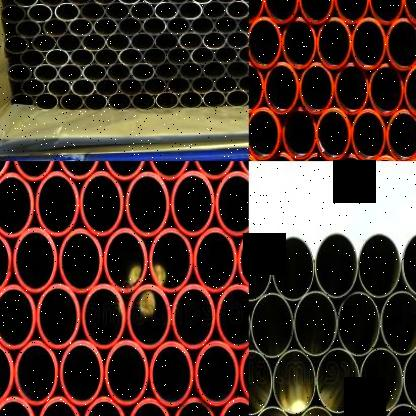pipe: (104, 340, 149, 406), (59, 340, 104, 406), (13, 227, 58, 292), (126, 171, 170, 237), (35, 171, 79, 237), (193, 227, 237, 293), (103, 228, 147, 294), (36, 283, 80, 349), (195, 340, 239, 406), (316, 348, 360, 414), (272, 349, 316, 415), (80, 171, 124, 236), (127, 284, 171, 349), (82, 284, 126, 349), (172, 284, 216, 349), (250, 293, 294, 358), (58, 229, 103, 292), (14, 341, 58, 405), (171, 171, 214, 236), (150, 341, 193, 406), (315, 233, 358, 298), (294, 291, 337, 356), (149, 229, 193, 292), (360, 348, 402, 413), (272, 236, 314, 300), (338, 292, 380, 356), (358, 234, 401, 296), (0, 284, 36, 348), (0, 171, 34, 238), (380, 292, 416, 354), (216, 283, 249, 349), (215, 172, 249, 235), (316, 108, 351, 161), (282, 18, 317, 70), (351, 18, 386, 70), (299, 62, 334, 114), (369, 64, 404, 116), (282, 108, 317, 160), (317, 18, 351, 70), (265, 62, 299, 114), (335, 63, 369, 115), (351, 109, 385, 161), (249, 16, 281, 68), (385, 18, 416, 70), (249, 108, 280, 160), (386, 109, 416, 161), (249, 350, 272, 415), (249, 236, 271, 300), (173, 395, 217, 416), (82, 395, 126, 416), (12, 161, 56, 182), (37, 395, 80, 416), (402, 232, 416, 296), (402, 347, 416, 410), (103, 161, 147, 181), (148, 161, 191, 181), (0, 339, 13, 405), (298, 0, 333, 24), (127, 397, 171, 416), (192, 161, 236, 180), (57, 161, 101, 180), (333, 0, 367, 24), (369, 0, 403, 24), (0, 229, 12, 295), (263, 0, 297, 23), (249, 62, 264, 114), (0, 396, 35, 416), (238, 228, 249, 291), (238, 339, 248, 406), (404, 64, 416, 116), (217, 396, 248, 416), (129, 1, 155, 21), (80, 1, 106, 21), (105, 1, 131, 21), (56, 33, 82, 53), (1, 4, 27, 24), (54, 2, 81, 21), (15, 19, 42, 38), (42, 18, 69, 37), (142, 16, 167, 36), (68, 17, 93, 37), (94, 47, 119, 67), (106, 32, 131, 52), (214, 15, 239, 35), (154, 61, 179, 81), (81, 33, 107, 52), (166, 16, 192, 35), (69, 48, 95, 67), (4, 35, 30, 54), (117, 17, 143, 36), (190, 16, 216, 35), (82, 63, 108, 82), (106, 63, 132, 82), (31, 34, 57, 53), (19, 49, 46, 67), (202, 0, 226, 20), (119, 47, 143, 67), (178, 0, 202, 20), (167, 46, 191, 66), (154, 1, 179, 20), (28, 4, 53, 23), (93, 17, 118, 36), (130, 32, 155, 51), (154, 32, 179, 51), (178, 61, 203, 80), (59, 93, 85, 111), (7, 64, 33, 82), (46, 78, 72, 96), (33, 64, 59, 82), (84, 92, 108, 111), (119, 77, 143, 96), (191, 46, 215, 65), (143, 47, 167, 66), (167, 76, 191, 95), (225, 60, 249, 79), (45, 49, 70, 67), (58, 64, 83, 82), (143, 77, 168, 95), (190, 76, 215, 94), (214, 46, 239, 64), (202, 61, 227, 79), (178, 32, 203, 50), (131, 63, 156, 81), (95, 78, 120, 96), (338, 406, 382, 416), (294, 406, 338, 416), (250, 406, 294, 416), (203, 31, 226, 50), (21, 78, 45, 96), (132, 92, 156, 110), (202, 90, 226, 108), (214, 75, 238, 93), (71, 78, 95, 96), (155, 91, 179, 109), (225, 31, 249, 49), (178, 91, 203, 108), (225, 0, 248, 18), (35, 93, 59, 110), (108, 93, 132, 110), (382, 404, 416, 416), (226, 89, 249, 106), (248, 0, 264, 23), (11, 93, 35, 108), (402, 0, 416, 25), (265, 152, 300, 161), (238, 14, 249, 34), (238, 45, 249, 63), (238, 74, 249, 92), (12, 0, 39, 7), (39, 0, 64, 7), (65, 0, 92, 5), (92, 0, 117, 5), (249, 153, 263, 161), (116, 0, 142, 4), (214, 0, 239, 4), (141, 0, 166, 4), (165, 0, 190, 4), (190, 0, 214, 4)
